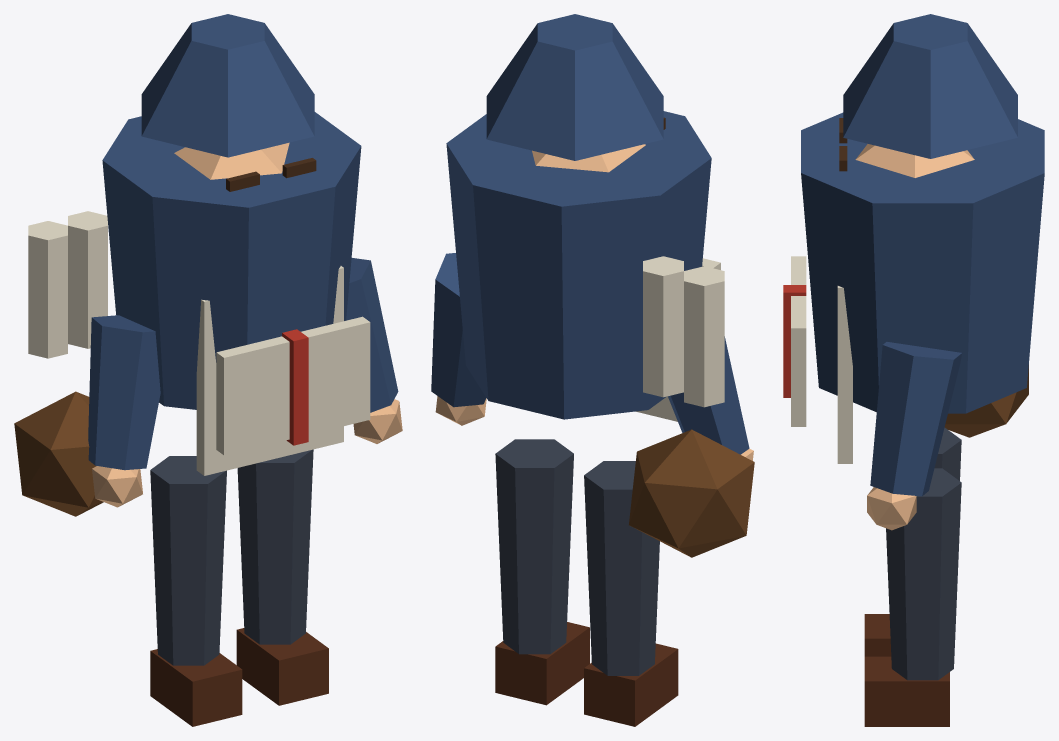
Rendered from npc_traveling_scholar.glb.
3 views of the same model, side by side, from view 1: azimuth 30°, elevation 25°; view 2: azimuth 150°, elevation 25°; view 3: azimuth 270°, elevation 25° (orthographic). The views are drawn at different scales.
Parts seen in each view (by area): view 1: npc_traveling_scholar_lod0; view 2: npc_traveling_scholar_lod0; view 3: npc_traveling_scholar_lod0.
Boxes of the visible parts, x1,y1,x2,y2 form: npc_traveling_scholar_lod0: (14,14,402,726); npc_traveling_scholar_lod0: (431,14,754,726); npc_traveling_scholar_lod0: (783,14,1044,726).
Size of the model in its own units: 1.02 by 1.88 by 0.6741.
